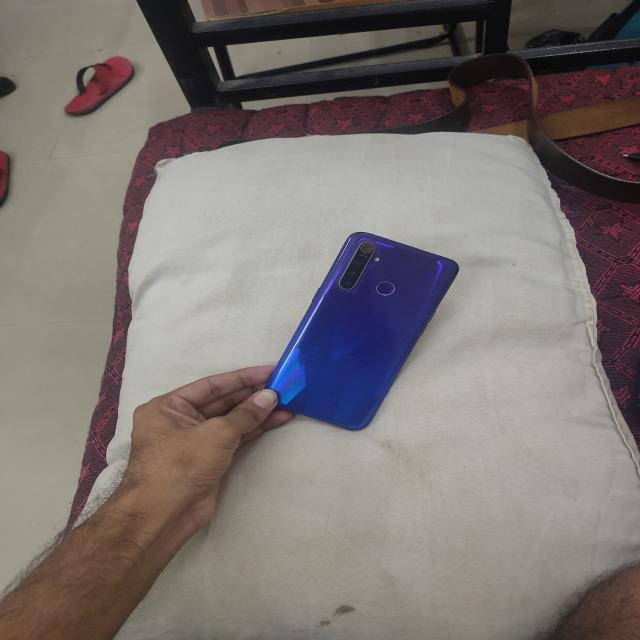Phone: (259, 228, 464, 432)
